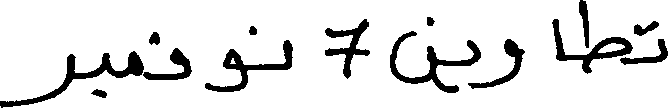7: (322, 17, 368, 79)
ا: (550, 17, 565, 62)
ب: (91, 50, 110, 100)
ت: (631, 20, 666, 63)
ر: (0, 52, 74, 106)
ط: (576, 0, 631, 74)
ف: (148, 33, 191, 80)
م: (127, 49, 144, 79)
ن: (386, 15, 437, 89), (249, 24, 292, 70)
و: (481, 36, 522, 87), (203, 46, 247, 92)
ي: (441, 38, 482, 92)
